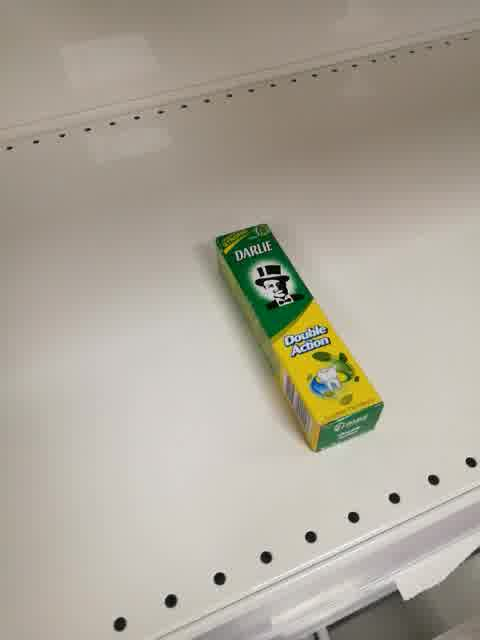toothpaste: (212, 221, 384, 453)
